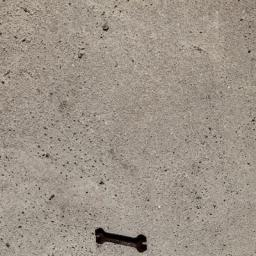FOD: (91, 221, 154, 256)
